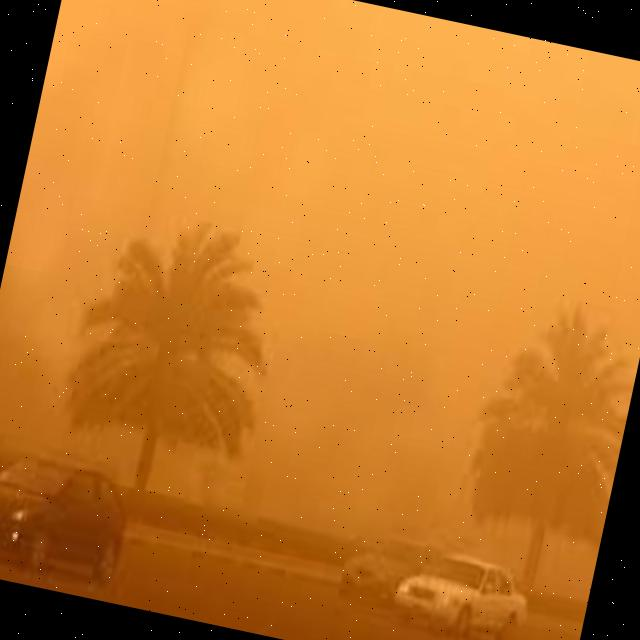car: (0, 440, 142, 596), (391, 542, 535, 640), (336, 529, 438, 621)
